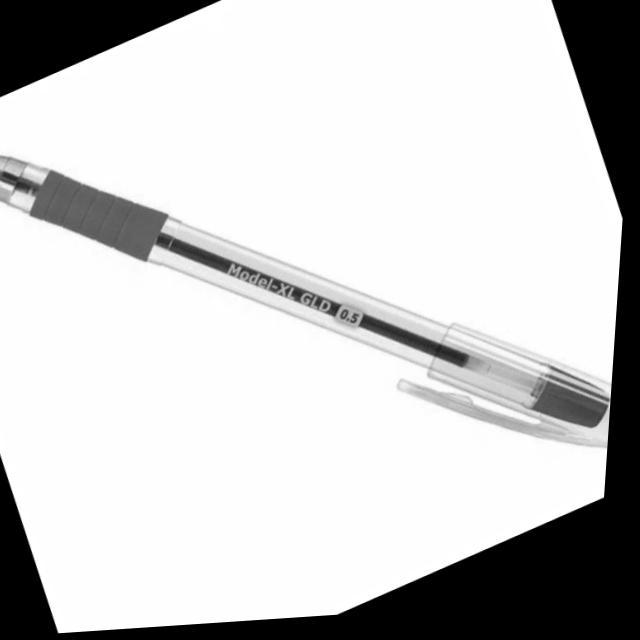pencil: (0, 145, 612, 457)
